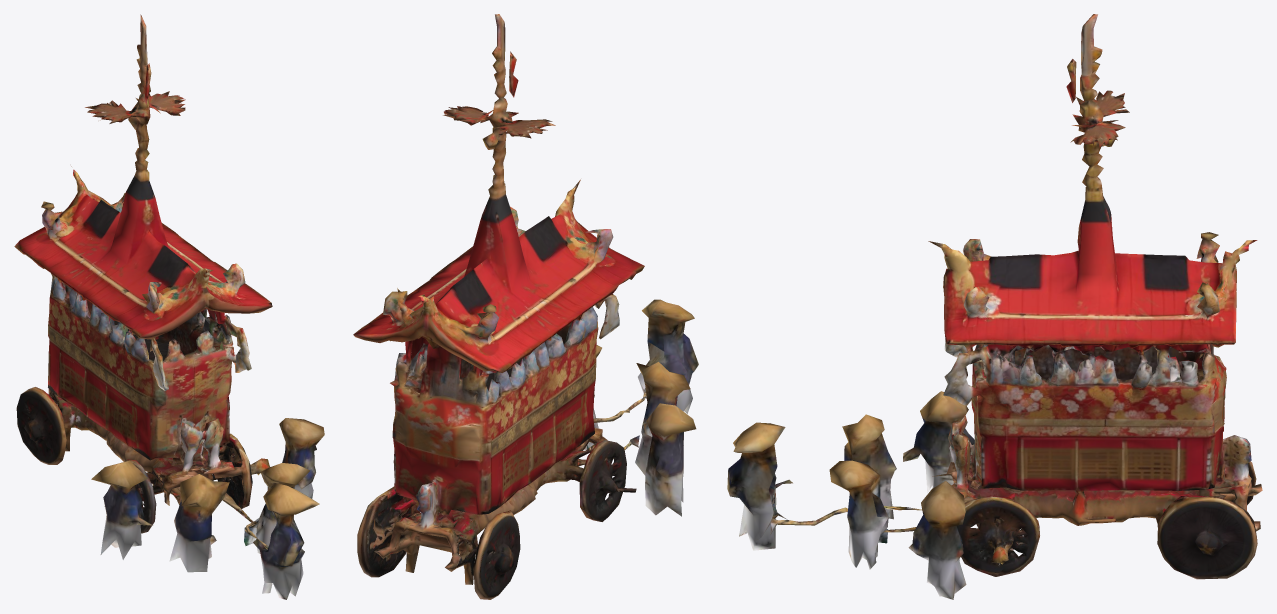
The model's file is 長刀鉾.glb.
The picture shows the model from 3 angles, left to right: view 1: azimuth 30°, elevation 25°; view 2: azimuth 150°, elevation 25°; view 3: azimuth 270°, elevation 25°; orthographic projection. The views are drawn at different scales.
Parts seen in each view (by area): view 1: Mesh1.0, Mesh1.001; view 2: Mesh1.0, Mesh1.001; view 3: Mesh1.0, Mesh1.001.
Part boxes in pixels (x1,y1,x2,y2): Mesh1.0: (14, 14, 272, 549); Mesh1.001: (91, 418, 324, 599); Mesh1.0: (353, 14, 646, 599); Mesh1.001: (584, 299, 698, 516); Mesh1.0: (770, 14, 1262, 579); Mesh1.001: (727, 391, 974, 599).
Size of the model in its own units: 5.68 by 11.21 by 10.13.
1 material, 1 textured.
